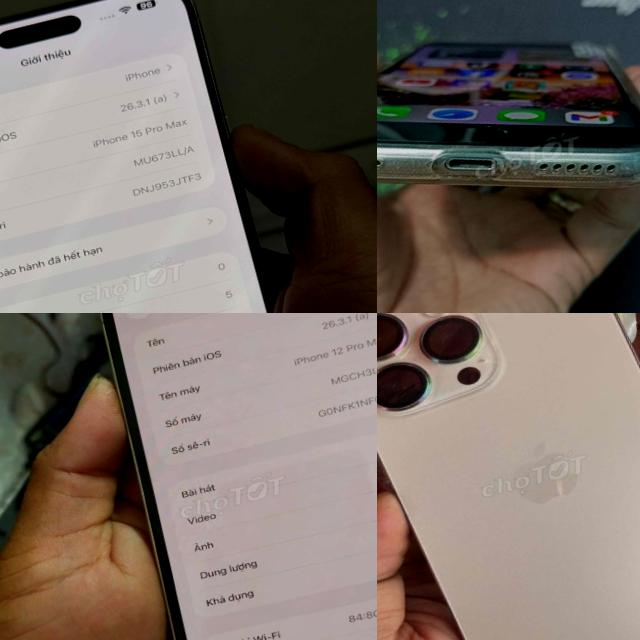gen_12_13: (85, 313, 377, 640)
gen_15: (0, 0, 318, 313)
gen_16: (377, 313, 640, 640)
gen_6: (377, 0, 640, 276)
